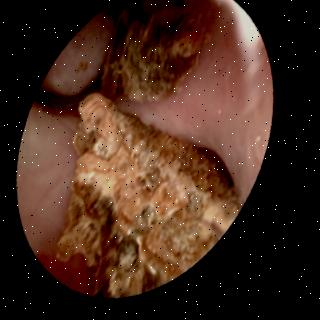stone: (63, 93, 243, 293), (103, 5, 206, 102)
